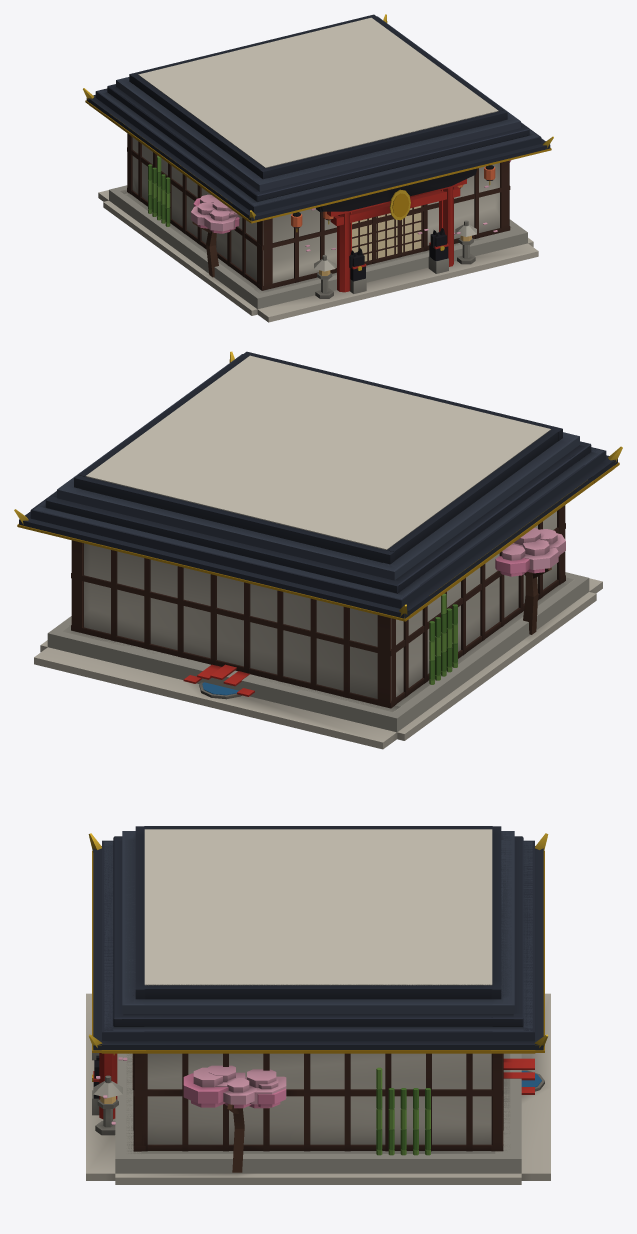
The model's file is BlackCatIdolFloor.fbx.
3 views of the same model, one above another, from view 1: azimuth 30°, elevation 25°; view 2: azimuth 150°, elevation 25°; view 3: azimuth 270°, elevation 25° (orthographic). The views are drawn at different scales.
Visible parts, largest first — view 1: BC_S_All, BC_F_Rings, BC_F_Smooth, BC_F_Props, BC_F_Quiet, BC_F_Glass; view 2: BC_S_All, BC_F_Rings, BC_F_Smooth, BC_F_Quiet, BC_F_Props; view 3: BC_S_All, BC_F_Rings, BC_F_Smooth, BC_F_Quiet, BC_F_Props.
Part boxes in pixels (x1,y1,x2,y2): BC_S_All: (95,16,541,309); BC_F_Rings: (89,14,549,293); BC_F_Smooth: (83,80,553,322); BC_F_Props: (83,14,553,298); BC_F_Quiet: (98,190,538,316); BC_F_Glass: (291,166,495,275); BC_S_All: (30,354,606,738); BC_F_Rings: (19,351,614,711); BC_F_Smooth: (14,437,622,749); BC_F_Quiet: (34,578,602,742); BC_F_Props: (14,351,622,634); BC_S_All: (102,829,534,1173); BC_F_Rings: (93,826,543,1154); BC_F_Smooth: (86,836,550,1184); BC_F_Quiet: (86,993,550,1177); BC_F_Props: (88,833,548,1172).
Size of the model in its own units: 60 by 20 by 60.
